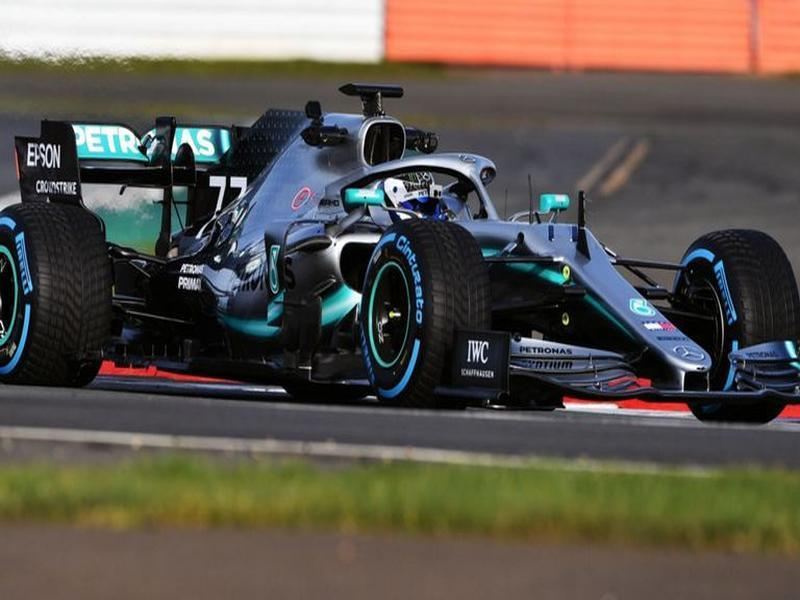f1: (5, 72, 800, 426)
